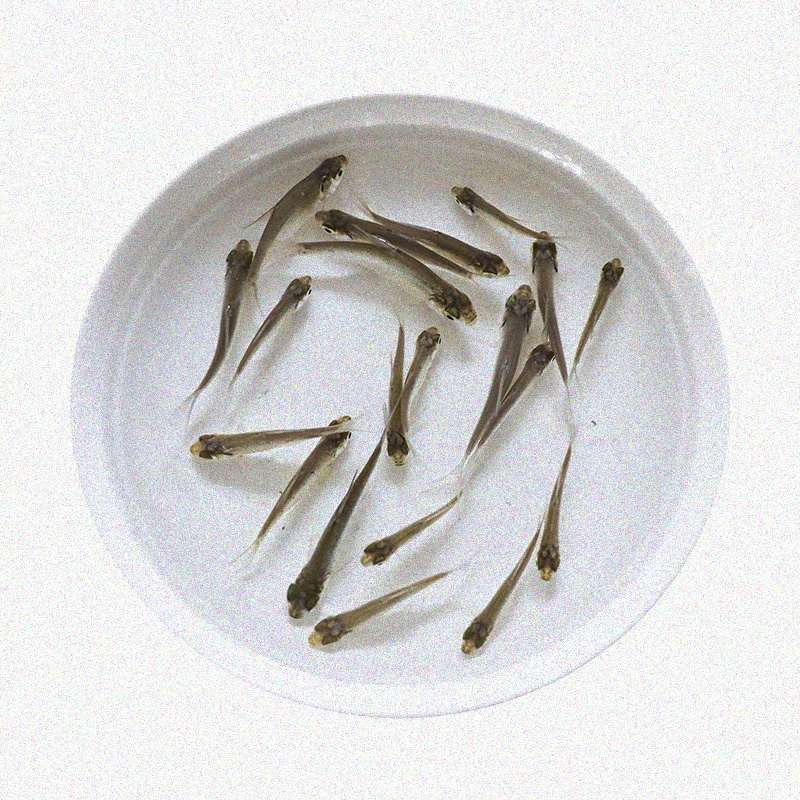fry: (575, 246, 631, 368), (264, 150, 351, 227), (301, 598, 415, 655), (205, 230, 260, 342), (354, 514, 450, 578), (292, 396, 351, 499), (176, 424, 307, 470), (535, 467, 583, 591), (266, 527, 329, 619), (404, 263, 482, 331), (451, 562, 506, 656), (442, 170, 518, 237), (483, 272, 542, 358), (262, 263, 321, 344), (436, 230, 517, 287), (523, 213, 569, 303), (521, 332, 562, 401), (313, 202, 371, 240)
